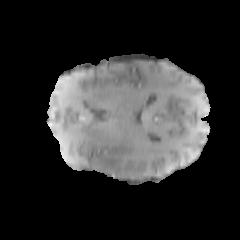glioma: (82, 136, 165, 180)
